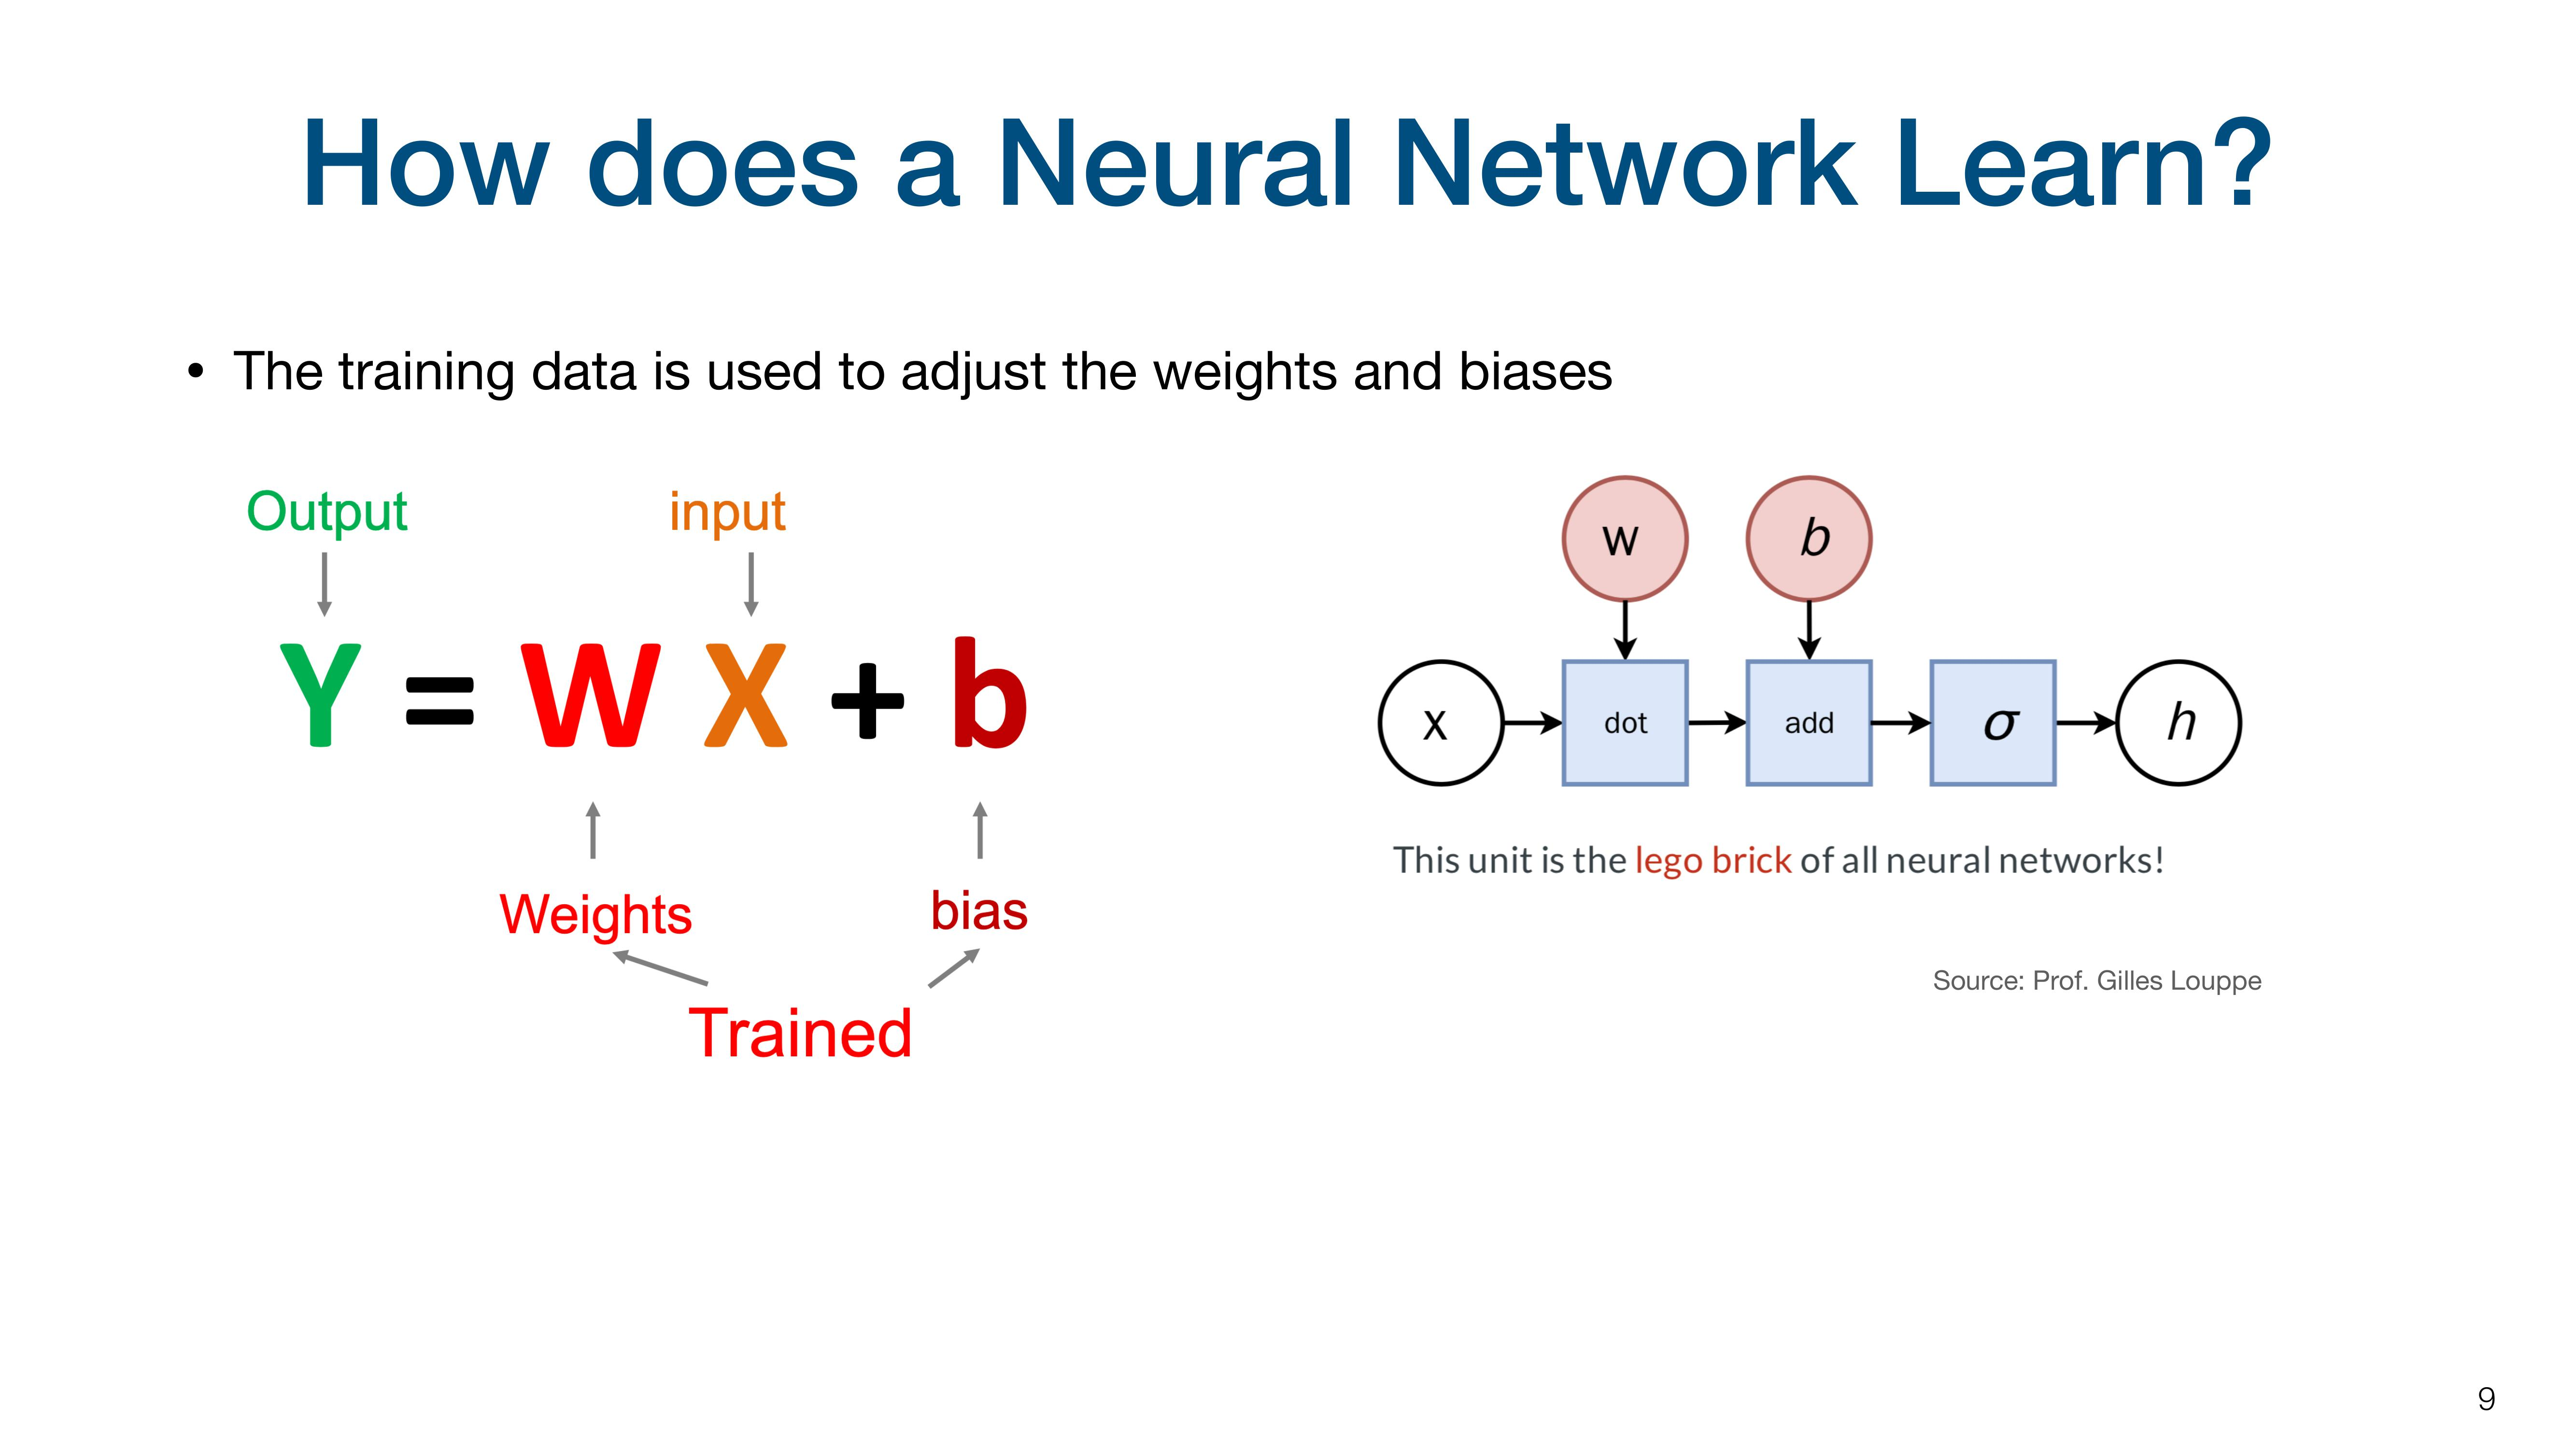Title: (288, 96, 2291, 248)
